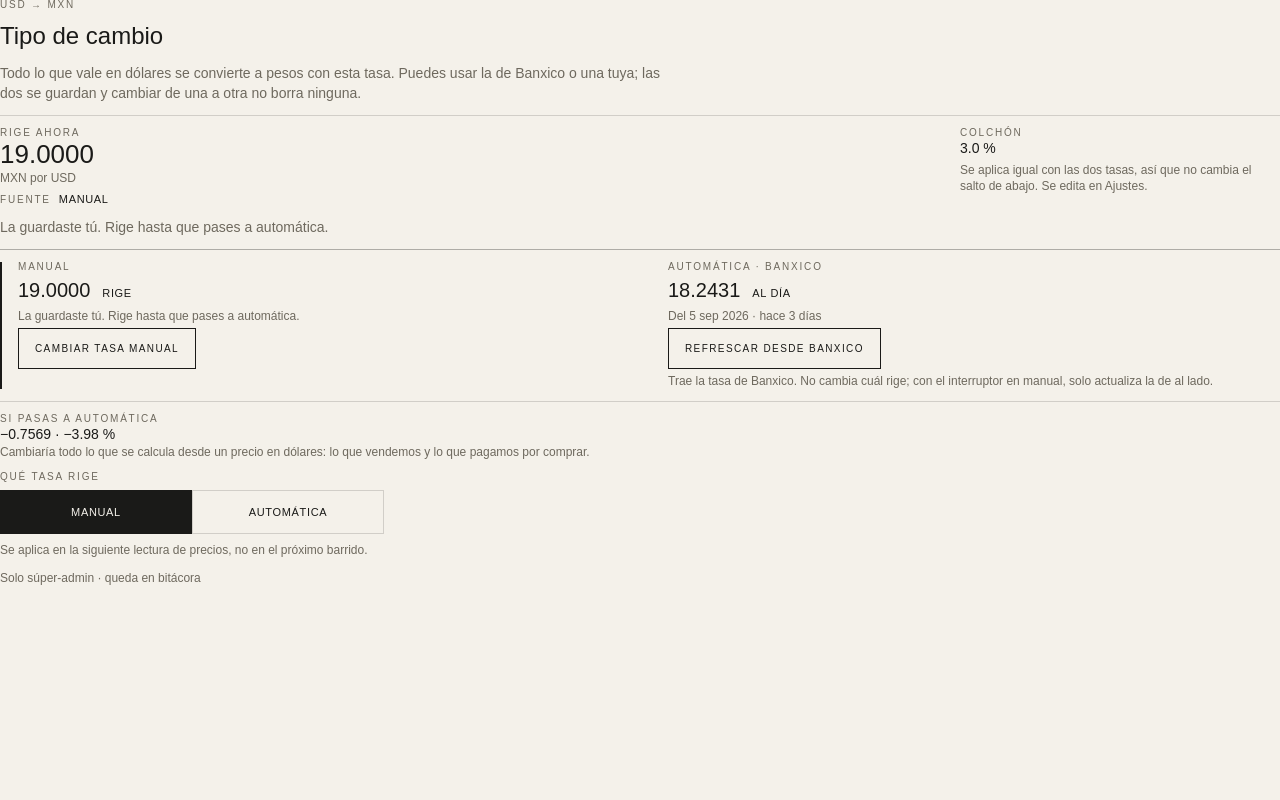
Test: FX-UI-9 ⭐ · guardar una tasa en modo `auto` NO parece que no hizo nada › CONTROL: si el número que se guarda RIGE, se confirma antes — mueve el catálogo igual
Click the button "Cambiar tasa manual" at {"x": 107, "y": 349}, box x1=18 y1=328 x2=196 y2=369
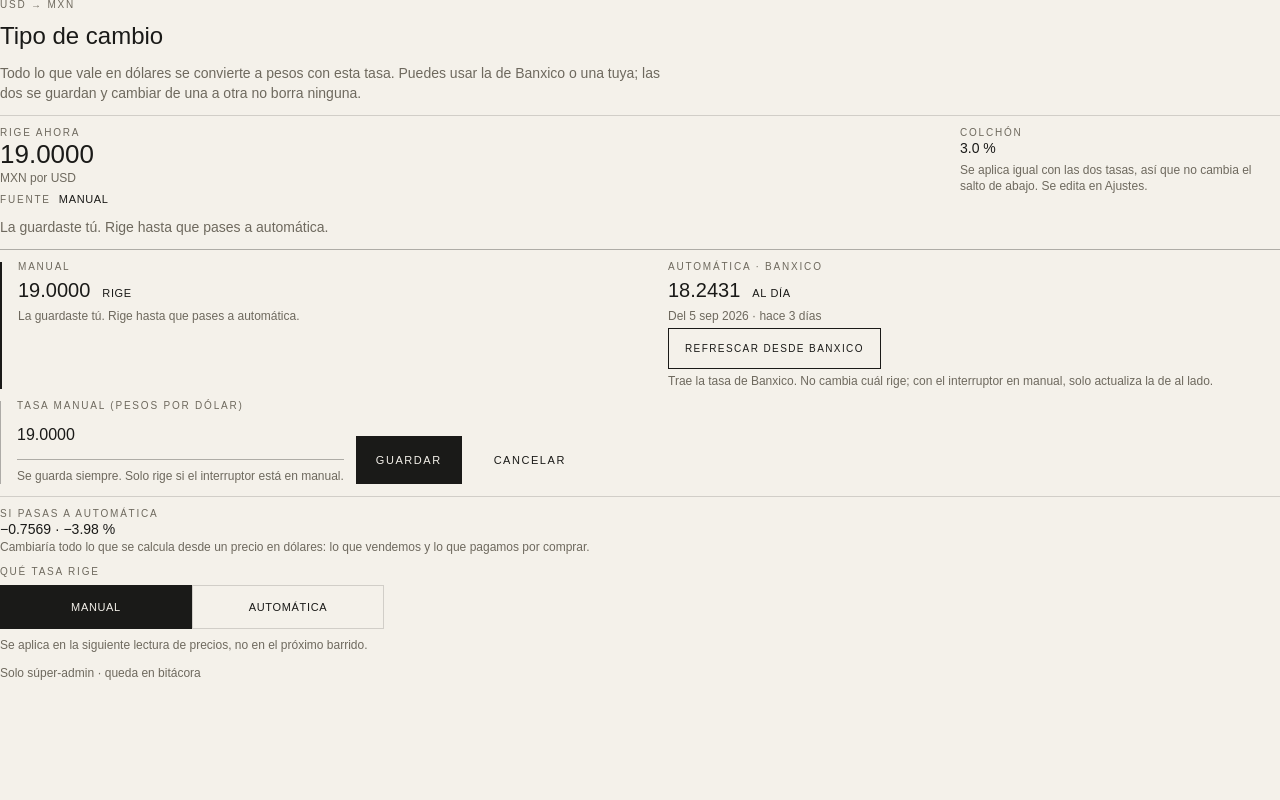
Replace the text in the field labelled "Tasa manual (pesos por dólar)" with "25" at {"x": 97, "y": 435}, box x1=17 y1=423 x2=177 y2=447
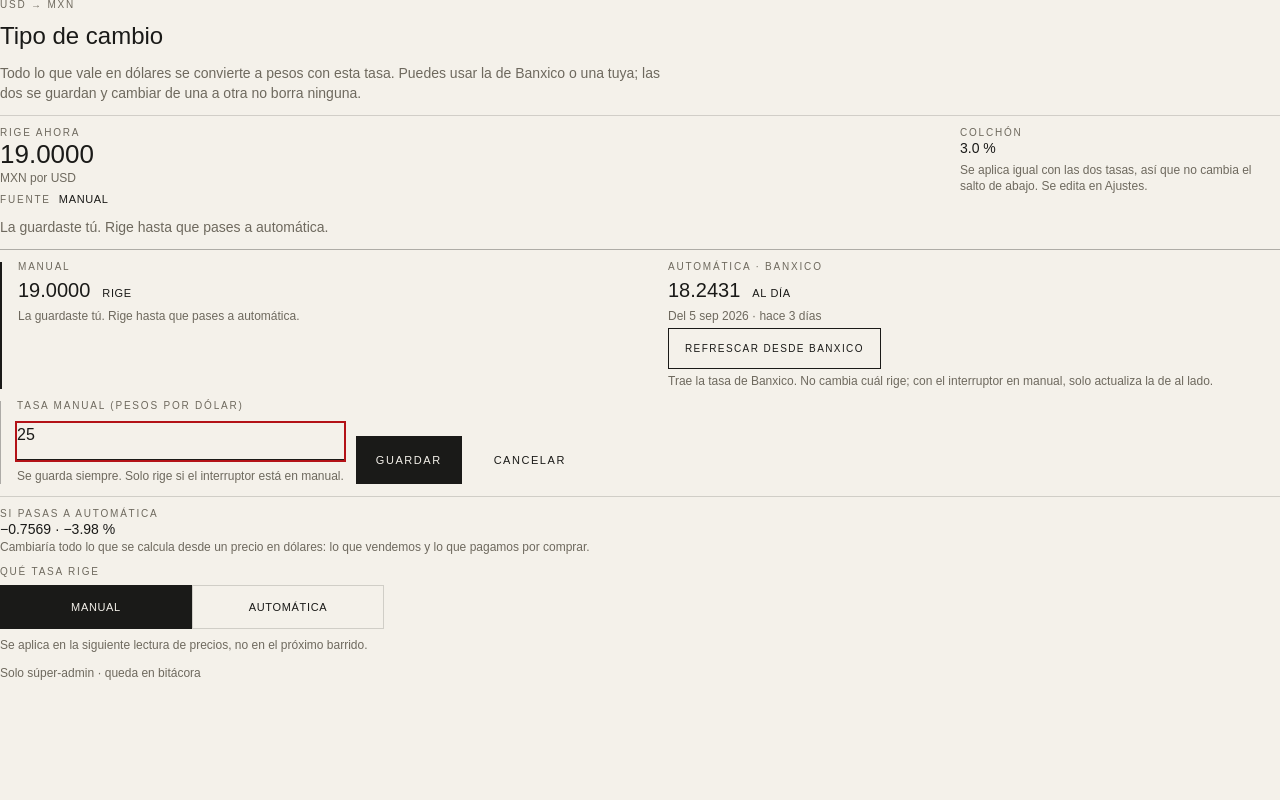
Click the button "Guardar" at {"x": 409, "y": 460}, box x1=356 y1=436 x2=462 y2=484
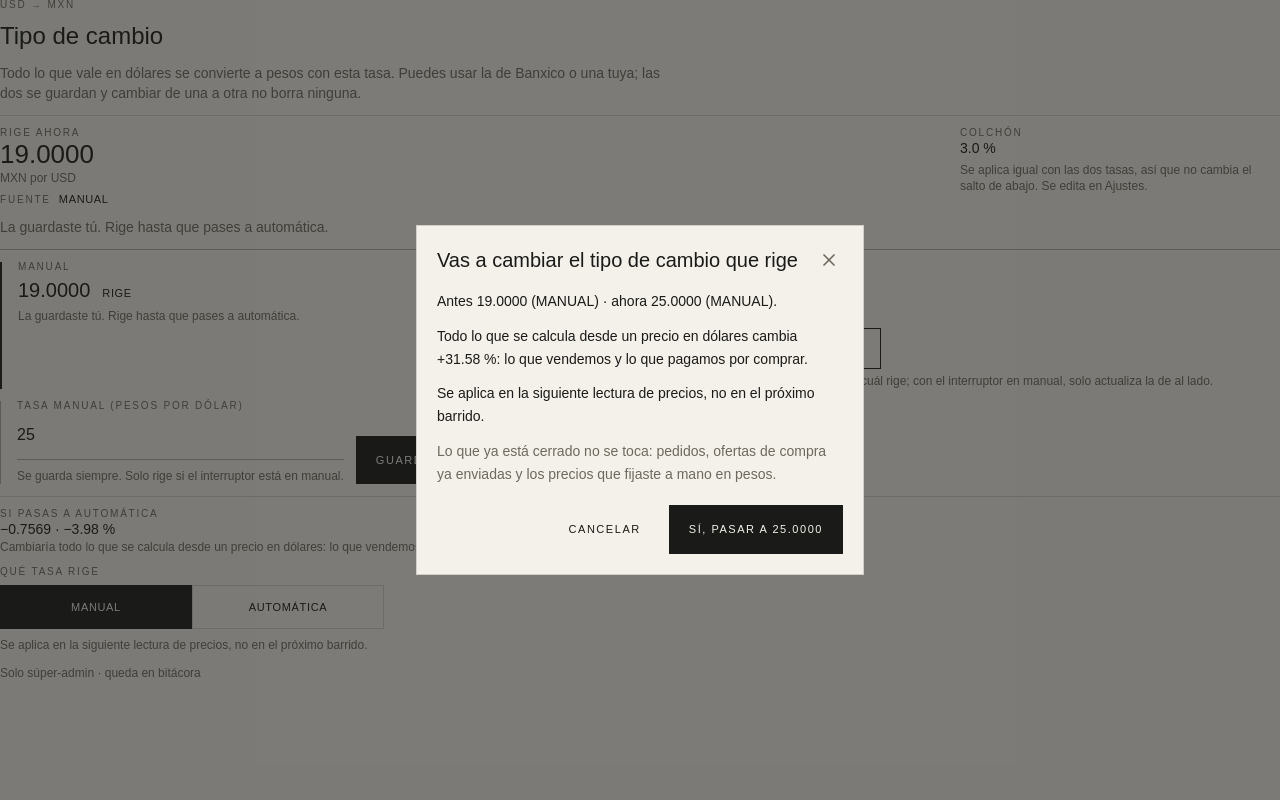
Check: the dialog shows "Vas a cambiar el tipo de cambio que rige", box x1=437 y1=249 x2=798 y2=271
Click the button "Sí, pasar a 25.0000" at {"x": 756, "y": 530}, box x1=669 y1=505 x2=843 y2=554
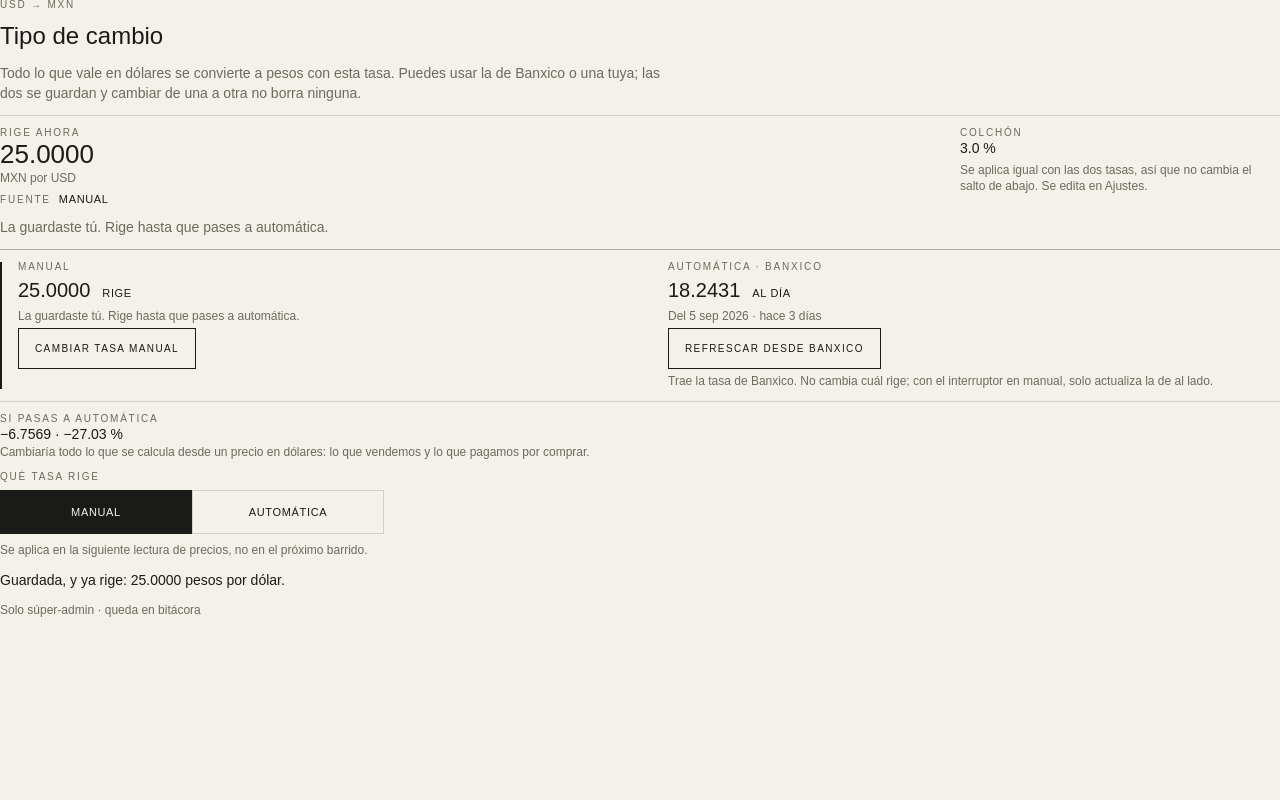
Check: the text "Guardada, y ya rige: 25.0000 pesos por dólar." is shown, box x1=0 y1=572 x2=285 y2=588
